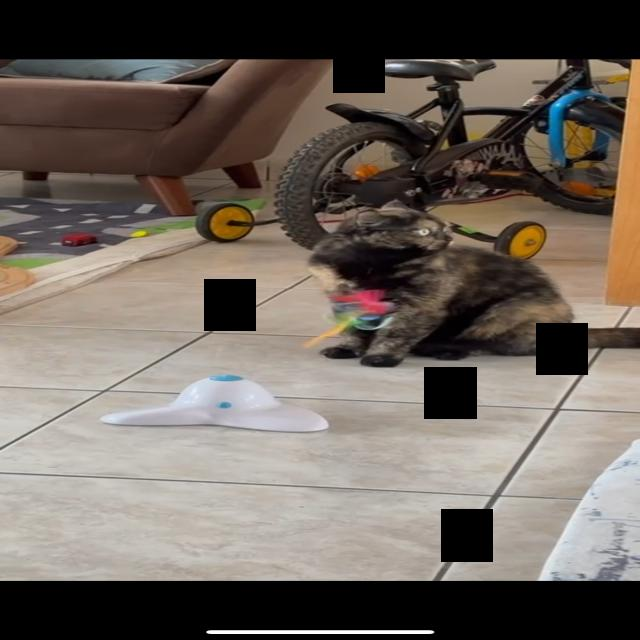authorized: (305, 198, 638, 368)
